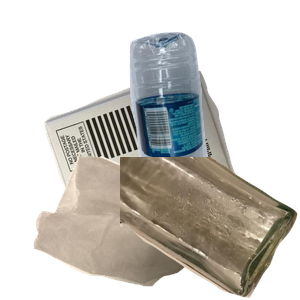glass: (120, 157, 300, 300)
paper: (42, 68, 275, 248)
plastic: (127, 29, 300, 209)
trash: (31, 149, 268, 300)
